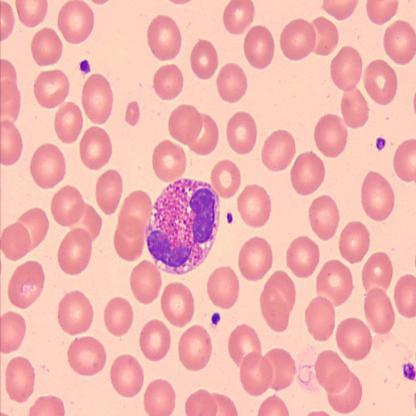Eosinophil: (146, 178, 224, 273)
